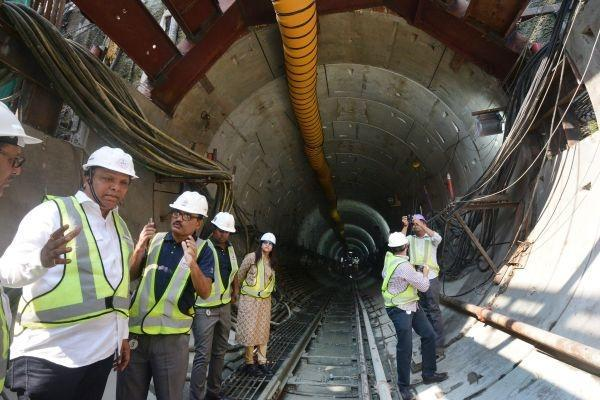helmet: (80, 142, 140, 186), (169, 186, 210, 221), (209, 210, 239, 235), (258, 228, 280, 248), (387, 232, 410, 247)
person: (31, 146, 133, 400), (136, 189, 213, 400), (379, 231, 433, 400), (239, 229, 282, 377)
